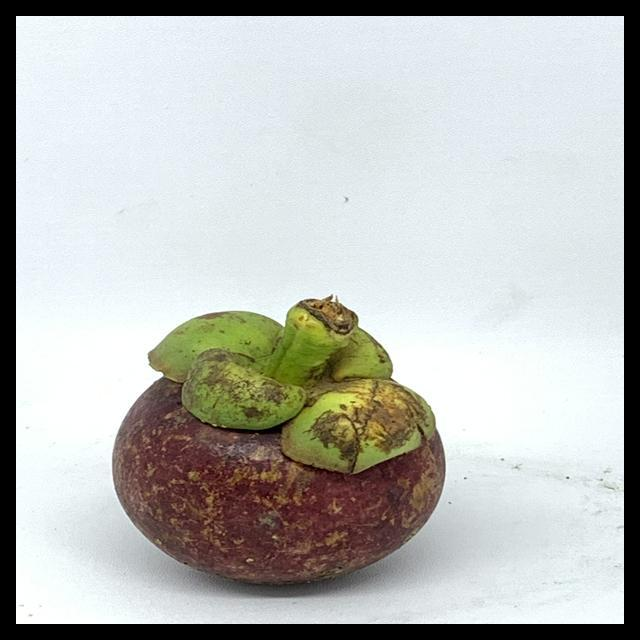mangosteen: (104, 277, 464, 587)
